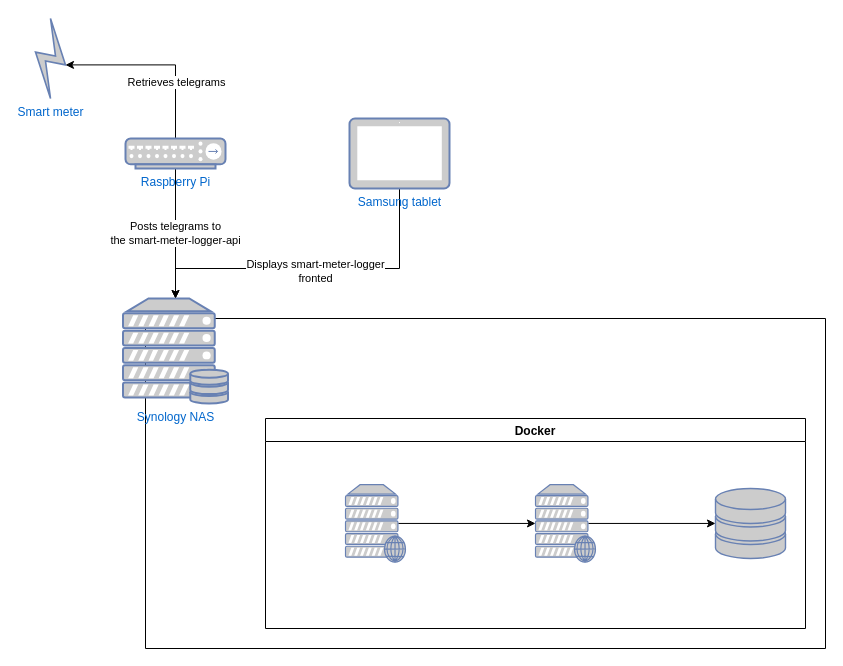
The diagram is 843 pixels wide and 666 high, and some of its shapes have lost their labels. The shapes that lost their labels are listed below. From the top down, each one's centre as x and y in pixels, then its label:
(x=375, y=523): smart-meter-logger-frontend
(x=565, y=523): smart-meter-logger-api
(x=750, y=523): MySQL
